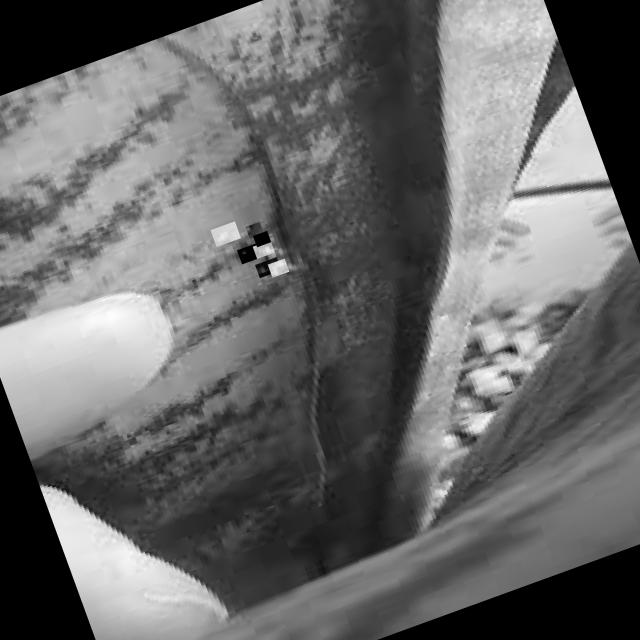scale_insect: (210, 221, 242, 247), (256, 257, 282, 278), (237, 243, 261, 264), (268, 258, 290, 278), (253, 240, 275, 259), (246, 222, 264, 239), (254, 231, 272, 247)
